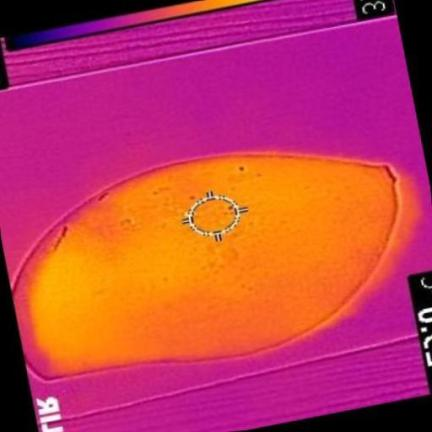mango: (13, 154, 401, 379)
